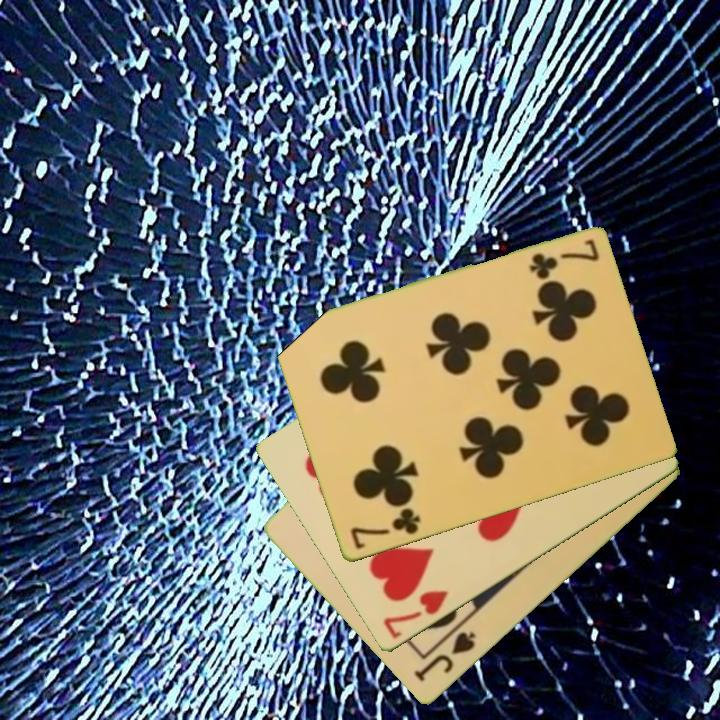7c: (346, 505, 423, 553), (525, 236, 602, 281)
7h: (379, 587, 451, 643)
Js: (410, 628, 479, 686)
